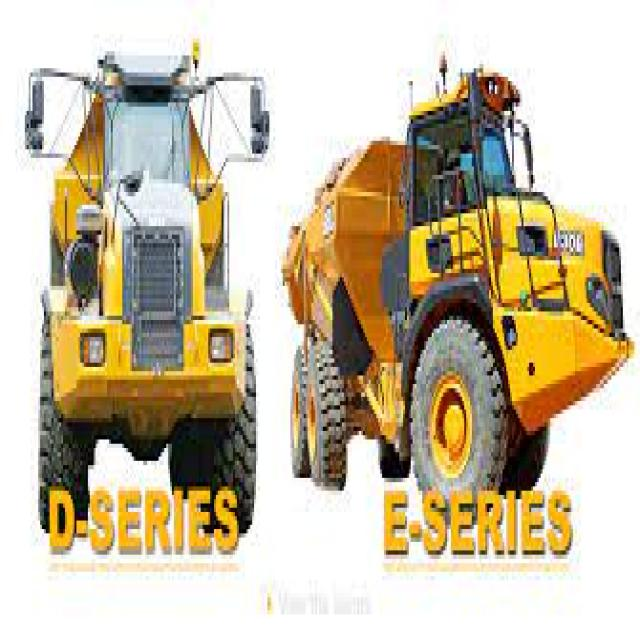dump_truck: (277, 30, 638, 563), (16, 38, 270, 576)
